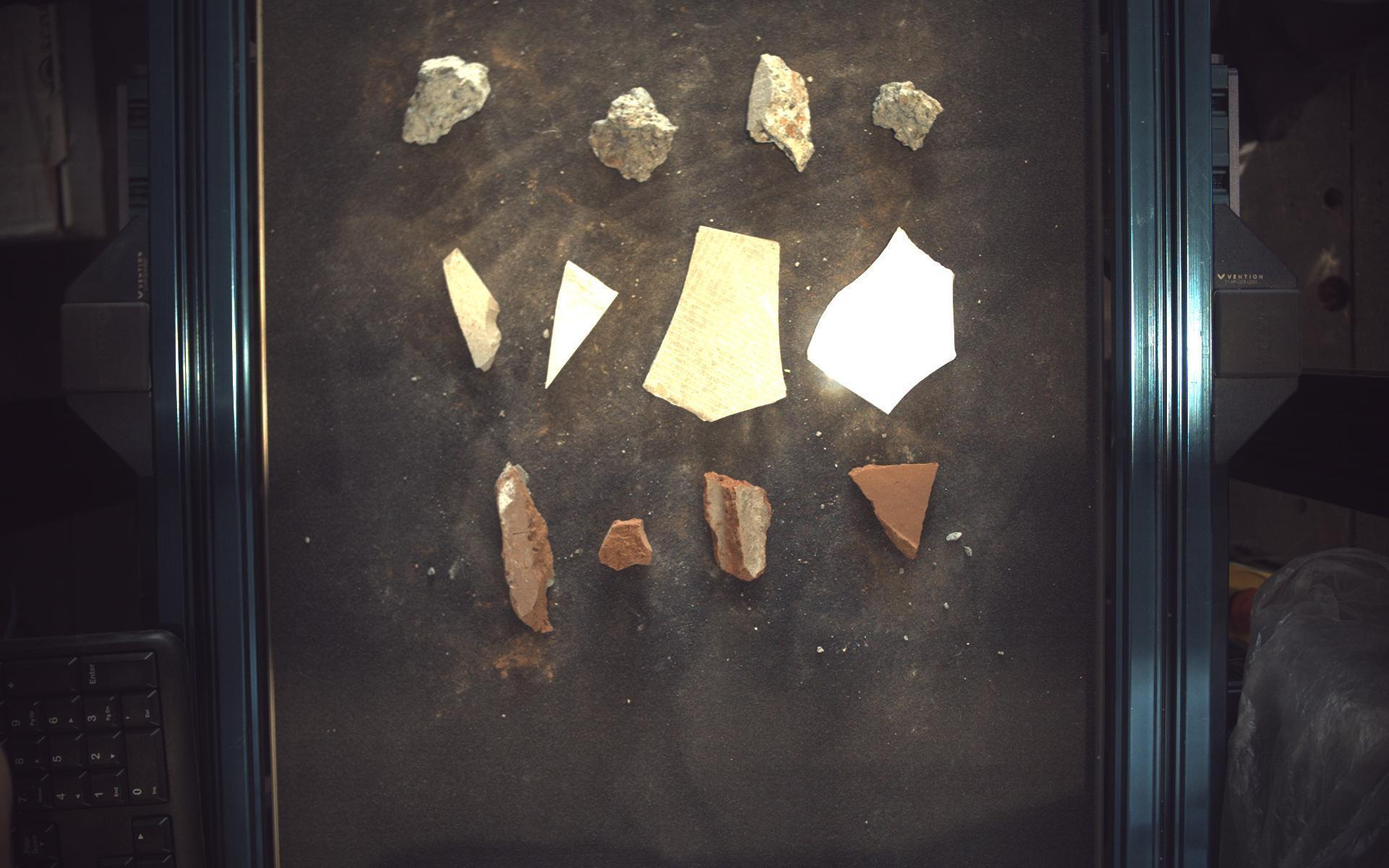brick: (496, 462, 554, 634), (851, 464, 940, 560), (705, 472, 773, 582), (599, 519, 653, 571)
concrete: (590, 85, 678, 181), (748, 53, 816, 171), (402, 54, 491, 143), (875, 80, 945, 150)
tile: (809, 227, 959, 414), (645, 225, 788, 421), (545, 261, 618, 388), (443, 247, 501, 371)
